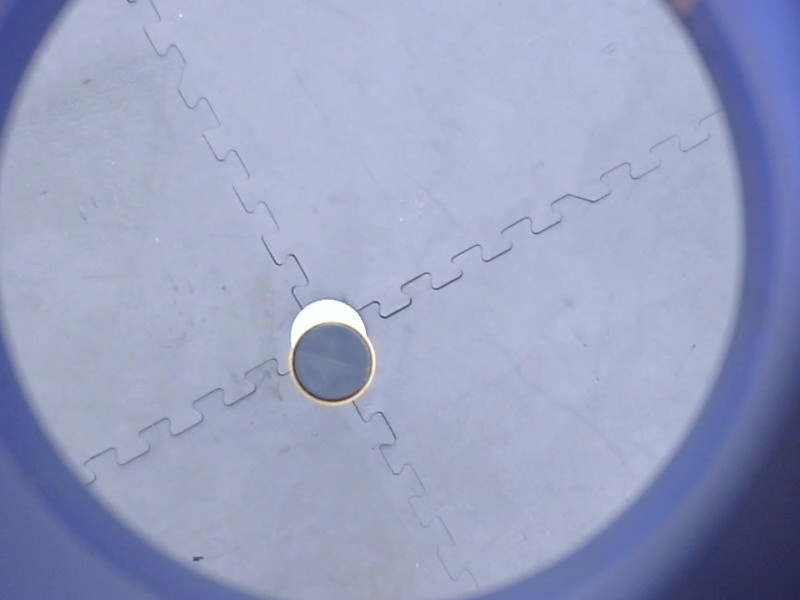tip: (284, 315, 380, 411)
